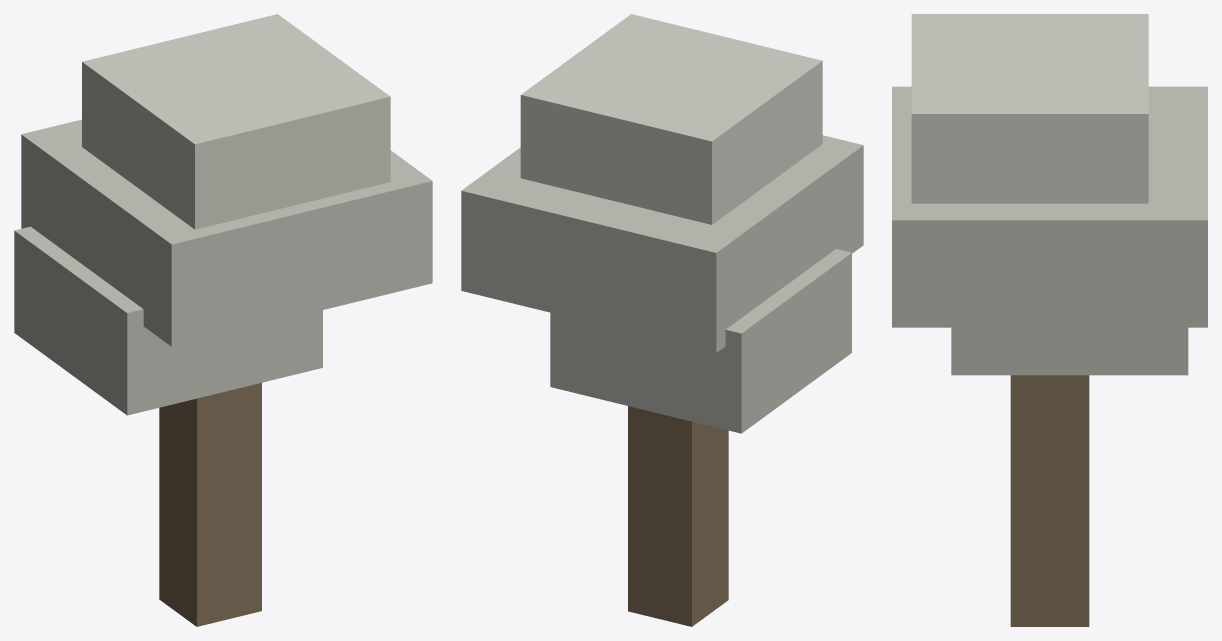
The model's file is abedul_03.glb.
3 renders of one model, left to right at view 1: azimuth 30°, elevation 25°; view 2: azimuth 150°, elevation 25°; view 3: azimuth 270°, elevation 25°, orthographic. The views are drawn at different scales.
Parts seen in each view (by area): view 1: abedul_03; view 2: abedul_03; view 3: abedul_03.
Part boxes in pixels (x1,y1,x2,y2): abedul_03: [14, 14, 432, 626]; abedul_03: [461, 14, 863, 626]; abedul_03: [892, 14, 1207, 626].
Size of the model in its own units: 1.7 by 3.1 by 1.6.
